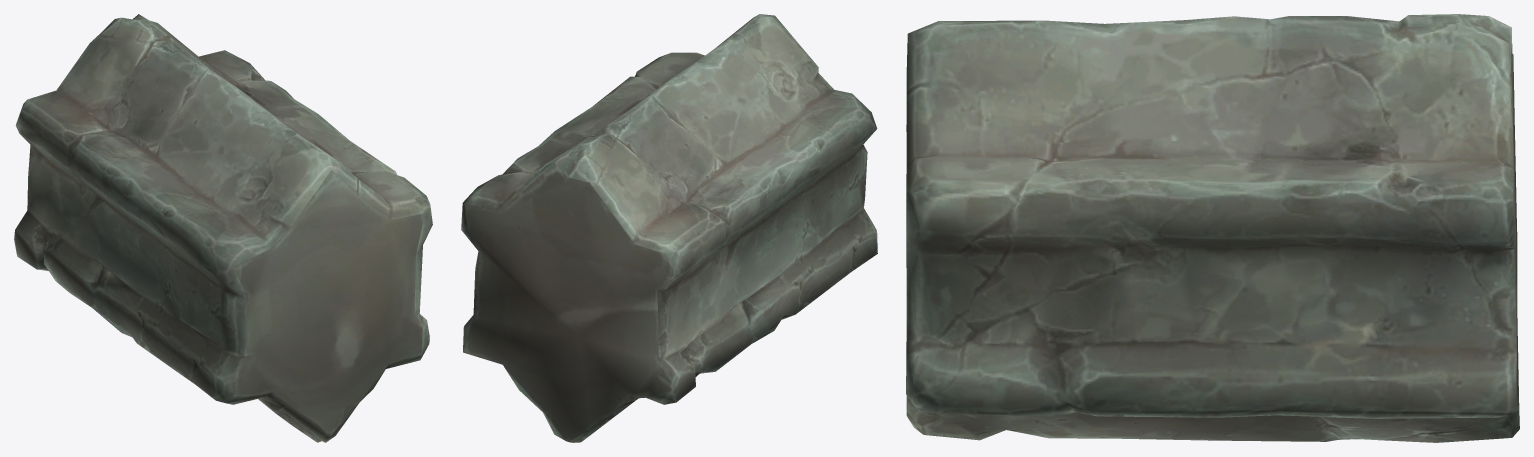
Rendered from Ruins_Pillar_5m_B.fbx.
3 views of the same model, side by side, from view 1: azimuth 30°, elevation 25°; view 2: azimuth 150°, elevation 25°; view 3: azimuth 270°, elevation 25° (orthographic). The views are drawn at different scales.
Visible parts, largest first — view 1: Ruins_Pillar_5m_B; view 2: Ruins_Pillar_5m_B; view 3: Ruins_Pillar_5m_B.
Boxes of the visible parts, <box> form: Ruins_Pillar_5m_B: <box>14,14,432,442</box>; Ruins_Pillar_5m_B: <box>461,14,877,442</box>; Ruins_Pillar_5m_B: <box>906,14,1519,442</box>.
Bounding box in the file's own units: 304 × 387 × 508.
